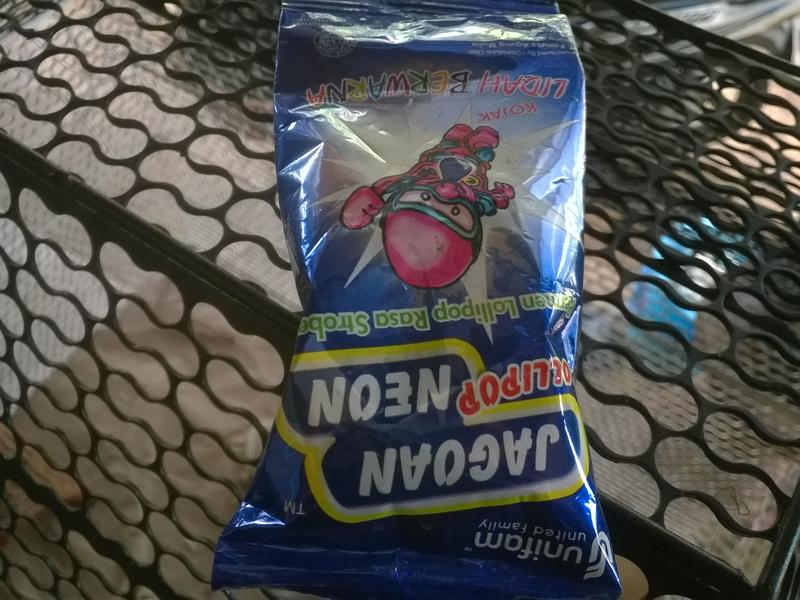jagoan neon: (210, 11, 626, 599)
